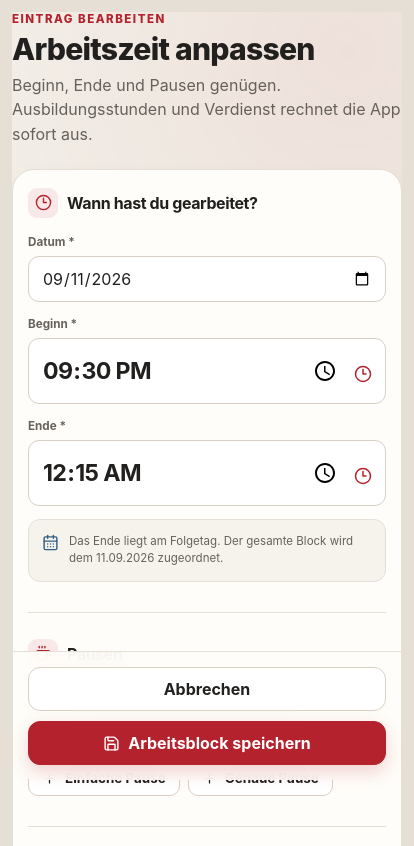
Scenario: behält beim Verschieben eines vorhandenen Nachtblocks die Uhrzeiten und verträgt ein leeres Datum
Type "2026-09-12" into the date field labelled "Datum *" at (207, 279), box [28,256,386,302]
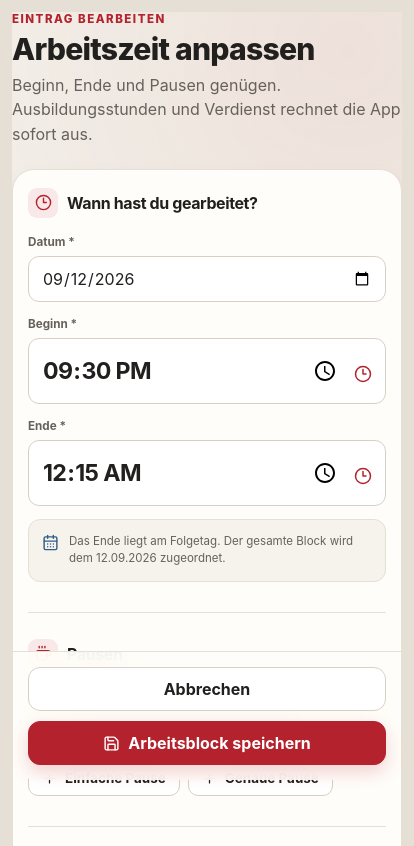
expect the time field labelled "Beginn *" holds "21:30": met, box [28,338,386,404]
expect the time field labelled "Ende *" holds "00:15": met, box [28,440,386,506]
Clear the date field labelled "Datum *" at (207, 279), box [28,256,386,302]
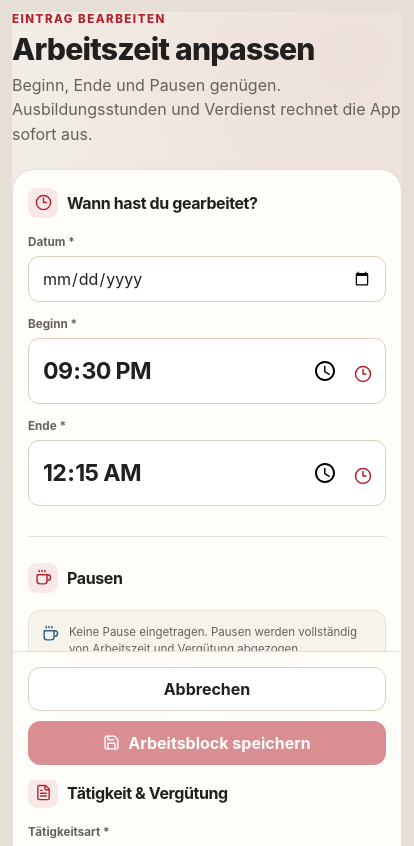
expect the text "Das Ende liegt am Folgetag" is gone: met
